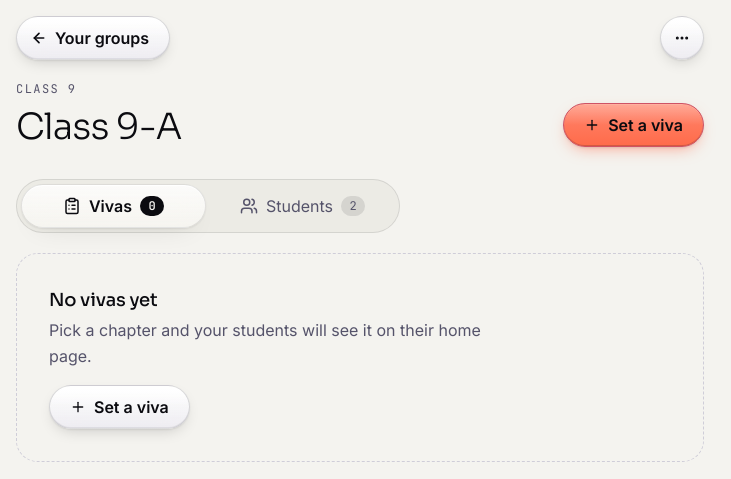
Test case: a group's page › opens on the Vivas tab, with Students one tab away
Expected: the heading "Class 9-A" is shown, [16, 107, 182, 147]
Expected: the heading "No vivas yet" is shown, [49, 289, 158, 311]
Step 1. Click the button named "Group options" → [682, 38], box [660, 16, 704, 60]
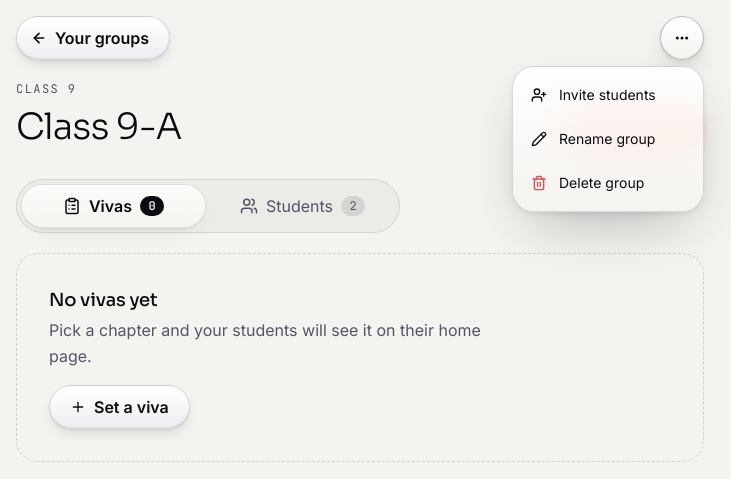
Expected: the menu items read "Invite students", "Rename group", "Delete group", in this order, [531, 86, 656, 103]; [531, 130, 655, 147]; [531, 174, 644, 191]
